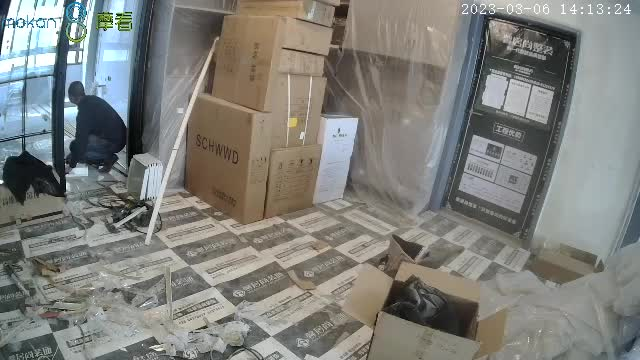people: (68, 79, 127, 172)
window: (3, 1, 148, 185)
